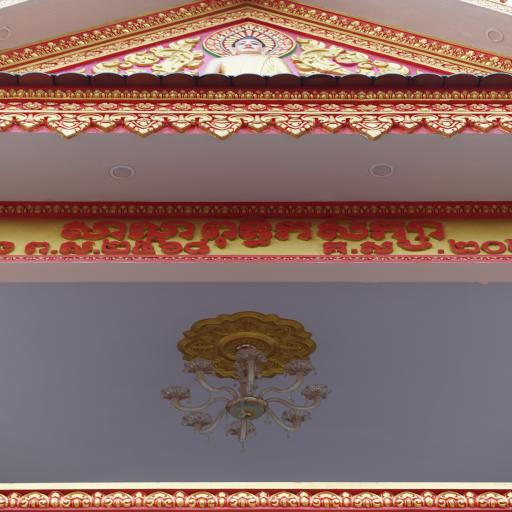hoa: (356, 102, 379, 112), (208, 102, 230, 112), (171, 102, 192, 112), (281, 103, 304, 112), (320, 103, 343, 112), (59, 102, 81, 111), (134, 102, 156, 111), (97, 102, 118, 111), (393, 104, 416, 112), (248, 103, 268, 111), (468, 103, 487, 111), (432, 104, 452, 111), (22, 103, 41, 110), (502, 104, 512, 114)
la: (336, 114, 406, 140), (187, 113, 253, 139), (37, 115, 102, 140), (262, 115, 330, 137), (414, 114, 479, 136), (112, 114, 175, 136), (230, 113, 287, 134), (0, 112, 59, 132), (305, 114, 361, 134), (380, 114, 436, 134), (154, 113, 210, 132), (80, 114, 135, 132), (455, 114, 509, 132), (353, 490, 383, 510), (103, 490, 134, 509), (393, 490, 425, 508), (144, 491, 175, 508), (61, 492, 92, 508), (188, 491, 217, 508), (229, 491, 258, 508), (312, 491, 341, 508), (19, 492, 49, 508), (438, 491, 468, 507), (272, 491, 300, 508), (478, 491, 506, 508), (420, 490, 436, 506), (215, 491, 230, 507), (1, 492, 18, 506), (297, 490, 311, 506), (341, 490, 353, 507), (370, 89, 390, 99), (133, 490, 144, 508), (92, 492, 104, 508), (258, 490, 270, 506), (465, 491, 477, 507), (10, 88, 29, 98), (311, 90, 332, 99), (175, 490, 186, 507), (49, 492, 61, 507), (382, 492, 394, 506), (258, 90, 276, 99), (275, 90, 293, 99), (333, 90, 353, 98), (504, 491, 512, 509), (294, 91, 312, 99), (390, 90, 406, 99), (354, 90, 371, 98), (74, 88, 87, 98), (92, 89, 106, 98), (35, 88, 47, 98), (150, 89, 162, 99), (202, 90, 217, 98), (233, 26, 248, 34), (245, 90, 258, 99), (168, 90, 179, 100), (235, 90, 247, 99), (112, 89, 122, 99), (452, 90, 462, 100), (43, 204, 53, 214), (120, 90, 132, 98), (188, 90, 200, 98), (226, 91, 238, 99), (265, 28, 277, 36), (279, 42, 291, 50), (222, 29, 235, 36), (0, 88, 9, 98), (179, 88, 188, 98), (433, 90, 443, 99), (489, 90, 499, 99), (126, 204, 136, 213), (146, 204, 156, 213), (174, 204, 184, 213), (277, 204, 287, 213), (452, 204, 462, 213), (255, 25, 266, 33), (136, 205, 147, 213), (208, 44, 222, 50), (99, 204, 108, 213), (26, 89, 36, 97), (46, 90, 56, 98), (56, 90, 66, 98), (131, 90, 141, 98), (423, 90, 433, 98), (275, 32, 285, 40), (16, 204, 24, 214), (33, 205, 43, 213), (54, 204, 64, 212), (184, 205, 194, 213), (231, 205, 241, 213), (332, 205, 342, 213), (388, 205, 398, 213), (398, 205, 408, 213), (407, 205, 417, 213), (416, 204, 426, 212), (279, 38, 292, 44), (240, 205, 251, 212), (294, 205, 305, 212), (86, 89, 94, 98), (414, 91, 423, 99), (462, 91, 471, 99), (470, 90, 479, 98), (480, 90, 489, 98), (500, 90, 508, 99), (207, 39, 219, 45), (212, 34, 224, 40), (72, 204, 80, 213), (80, 204, 89, 212), (212, 205, 221, 213), (259, 205, 268, 213), (268, 205, 277, 213), (324, 204, 332, 213), (343, 205, 352, 213), (370, 204, 379, 212), (380, 205, 389, 213), (463, 204, 472, 212), (67, 89, 74, 99), (442, 92, 452, 99), (360, 205, 370, 212), (473, 205, 483, 212), (142, 90, 150, 98), (217, 90, 225, 98), (406, 90, 414, 98), (119, 205, 127, 213), (166, 206, 174, 214), (194, 204, 202, 212), (105, 89, 112, 98), (161, 89, 168, 98), (63, 204, 70, 213), (91, 204, 98, 213), (305, 205, 314, 212), (426, 205, 435, 212), (435, 205, 444, 212), (444, 205, 453, 212), (483, 205, 492, 212), (5, 206, 14, 213), (244, 23, 254, 29), (276, 48, 286, 54), (26, 204, 32, 214), (203, 205, 211, 212), (222, 205, 230, 212), (250, 205, 258, 212), (353, 205, 360, 213), (492, 205, 500, 212), (500, 205, 508, 212), (288, 205, 294, 214), (212, 50, 224, 54), (110, 206, 118, 212), (156, 206, 164, 212), (316, 205, 322, 213), (507, 91, 512, 100), (0, 204, 4, 213), (509, 205, 512, 215)
lua: (82, 36, 207, 76), (292, 36, 408, 78), (325, 14, 341, 26), (460, 50, 476, 61), (157, 12, 176, 21), (412, 37, 427, 48), (113, 24, 131, 33), (390, 32, 406, 42), (368, 26, 384, 36), (194, 2, 214, 10), (44, 43, 64, 51), (485, 54, 497, 67), (498, 58, 512, 69), (347, 20, 362, 30), (303, 8, 318, 18), (92, 30, 108, 39), (436, 44, 450, 54), (282, 2, 296, 12), (134, 19, 151, 27), (67, 37, 84, 45), (1, 53, 14, 63), (178, 8, 194, 16), (22, 49, 38, 57)
than: (210, 37, 292, 76)
